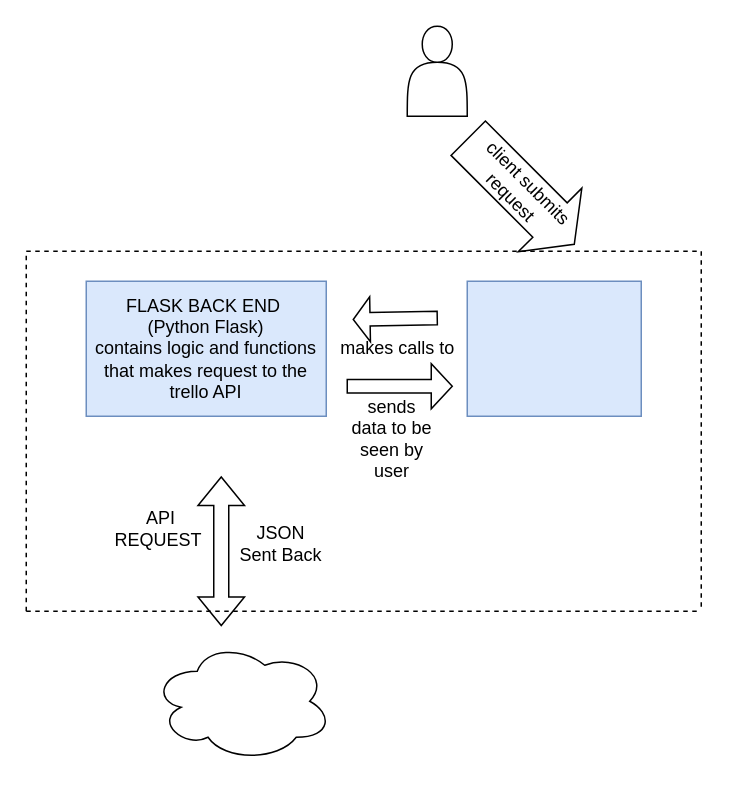
This 729x788 diagram has some shape labels left out. Each missing label, with the centre of its shape:
"TRELLO API" belongs at point 241,700.
"WEB APP FRONT END (Jinja2 HTML,CSS,JS) provided a UI through the web browser" belongs at point 553,348.
